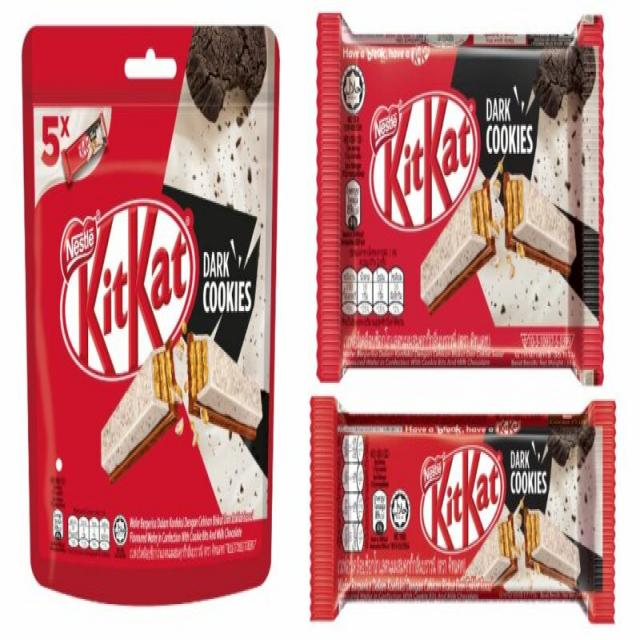kitkat: (23, 31, 280, 604), (316, 10, 603, 382), (313, 397, 616, 626)
